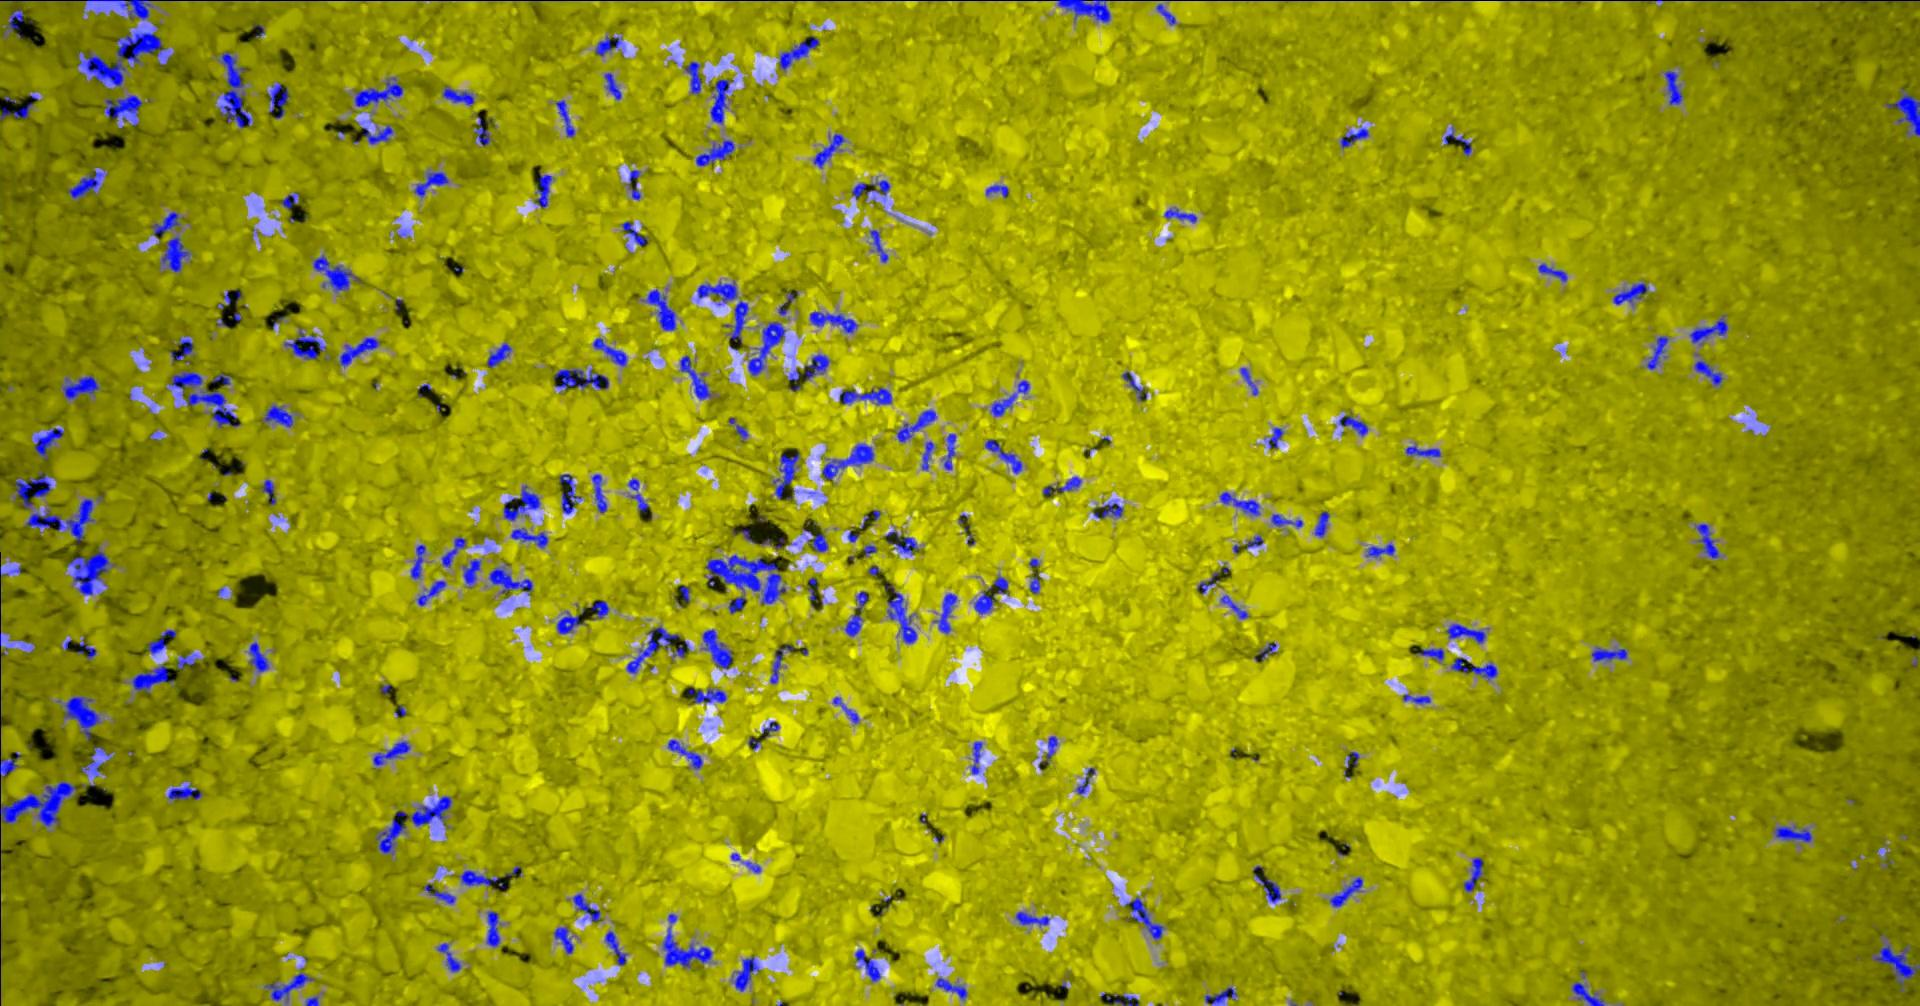ant: (375, 796, 451, 854), (24, 498, 94, 542), (662, 913, 711, 967), (626, 626, 681, 673), (1870, 944, 1919, 991), (747, 321, 785, 375), (67, 547, 110, 594), (884, 583, 916, 643), (822, 443, 872, 479), (312, 255, 361, 291), (264, 967, 312, 1002), (1884, 86, 1919, 135), (1125, 895, 1163, 939), (63, 696, 99, 741), (679, 354, 711, 399), (772, 448, 799, 499), (354, 77, 403, 105), (86, 0, 152, 20), (643, 290, 676, 330), (130, 663, 173, 694), (778, 37, 819, 69), (283, 329, 325, 359), (14, 473, 50, 508), (897, 409, 936, 441), (488, 567, 532, 594), (503, 485, 538, 520), (984, 439, 1021, 473), (1055, 0, 1110, 22), (339, 337, 378, 366), (702, 629, 731, 668), (69, 166, 104, 198), (103, 95, 141, 124), (1689, 314, 1727, 343), (1450, 657, 1497, 680), (552, 368, 608, 387), (695, 138, 734, 165), (813, 133, 844, 166), (667, 739, 702, 768), (723, 300, 748, 340), (372, 741, 409, 768), (1252, 865, 1280, 902), (710, 79, 733, 123), (809, 311, 857, 332), (1330, 876, 1363, 906), (161, 236, 189, 271), (592, 337, 626, 365), (0, 94, 37, 119), (559, 473, 582, 513), (770, 643, 792, 683), (34, 427, 63, 459), (413, 171, 448, 197), (1219, 492, 1258, 514), (933, 593, 956, 633), (80, 746, 109, 776), (62, 375, 99, 399), (734, 956, 759, 991), (839, 387, 891, 404), (697, 281, 737, 302), (460, 870, 505, 888), (855, 949, 880, 981), (1571, 981, 1604, 1005), (1646, 335, 1669, 370), (1697, 523, 1719, 558), (571, 893, 599, 921), (1446, 622, 1484, 643), (268, 83, 290, 118), (1613, 282, 1648, 304), (604, 930, 626, 965), (885, 531, 918, 554), (510, 527, 547, 547), (851, 180, 889, 199), (1444, 128, 1470, 155), (832, 696, 858, 723), (1694, 359, 1722, 385), (441, 537, 465, 567), (935, 977, 966, 998), (555, 100, 574, 136), (151, 211, 179, 235), (417, 580, 444, 605), (1220, 594, 1248, 619), (147, 629, 175, 653), (1123, 371, 1145, 400), (1043, 476, 1079, 494), (1663, 70, 1683, 104), (629, 478, 648, 512), (621, 221, 646, 246), (437, 942, 460, 970), (533, 173, 551, 208), (869, 229, 888, 262), (1037, 735, 1057, 768), (1463, 857, 1482, 890), (486, 342, 510, 367), (804, 353, 828, 379), (990, 392, 1016, 417), (423, 884, 455, 903), (973, 586, 994, 614), (590, 473, 606, 512), (248, 641, 268, 671), (1204, 987, 1237, 1005), (362, 124, 392, 144), (1340, 128, 1368, 149), (264, 405, 292, 426), (556, 612, 584, 633), (442, 86, 474, 104), (1774, 826, 1811, 841), (1338, 415, 1368, 434), (803, 528, 827, 551), (687, 688, 726, 702), (0, 751, 20, 777), (684, 61, 701, 93), (170, 338, 193, 361), (410, 544, 425, 578), (1015, 911, 1049, 926), (1538, 263, 1567, 281), (552, 927, 573, 953), (168, 784, 201, 799), (1591, 647, 1627, 661), (596, 36, 621, 55), (1076, 767, 1095, 793), (1100, 992, 1138, 1005), (472, 116, 489, 145), (1093, 502, 1123, 518), (1239, 367, 1257, 394), (6, 9, 23, 37), (463, 559, 480, 587), (778, 290, 797, 314), (486, 911, 499, 946), (1365, 542, 1394, 558), (1164, 208, 1196, 222), (604, 72, 621, 99), (1197, 572, 1218, 593), (75, 636, 95, 658), (1253, 641, 1276, 661), (1271, 513, 1302, 527), (1156, 3, 1175, 24), (943, 433, 955, 469), (1404, 445, 1440, 456), (1314, 511, 1330, 537), (627, 169, 640, 199), (844, 614, 861, 636), (279, 191, 298, 210), (921, 441, 933, 469), (262, 479, 276, 504), (1415, 647, 1443, 659), (590, 600, 608, 619), (971, 741, 982, 774), (1267, 427, 1283, 448), (728, 596, 745, 614), (672, 639, 690, 657), (177, 653, 196, 669), (985, 184, 1008, 197), (993, 575, 1008, 594), (789, 370, 801, 390), (762, 720, 778, 735), (1402, 694, 1430, 702), (855, 591, 867, 610), (217, 290, 230, 307), (1244, 535, 1262, 547), (210, 373, 229, 385), (1029, 573, 1039, 593), (808, 577, 817, 600), (735, 424, 747, 441), (679, 586, 690, 602), (1347, 751, 1357, 767), (1017, 380, 1029, 392), (305, 996, 317, 1005), (1839, 0, 1919, 1)
